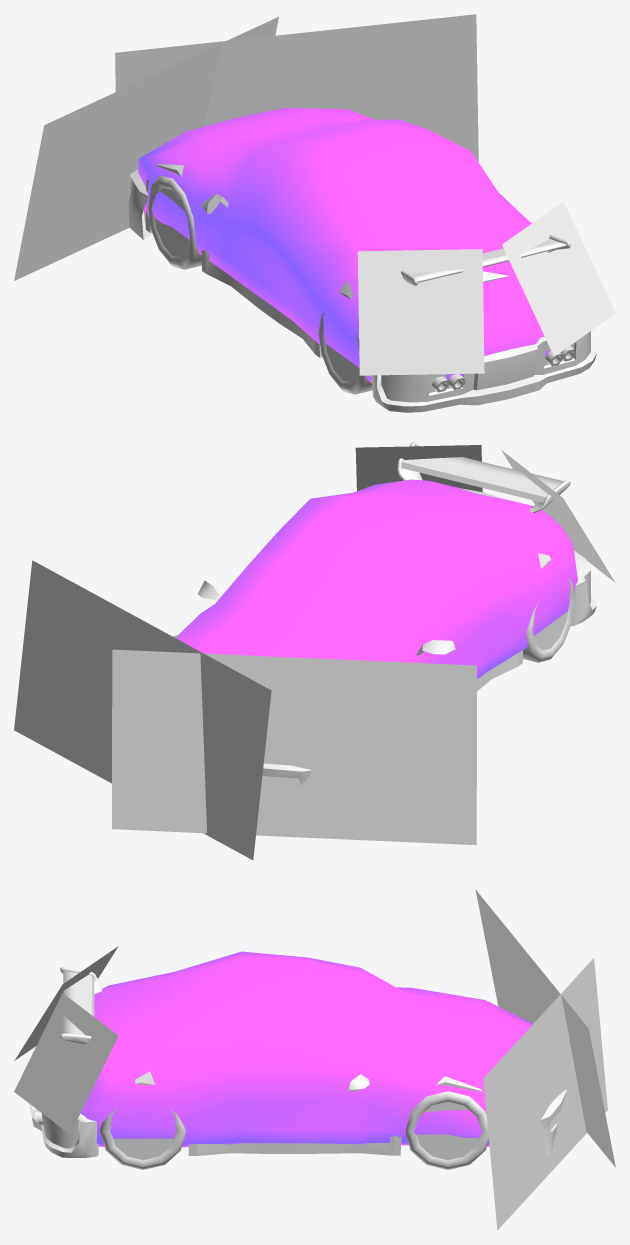
The model's file is Eclipse.fbx.
3 renders of one model, top to bottom at view 1: azimuth 30°, elevation 25°; view 2: azimuth 150°, elevation 25°; view 3: azimuth 270°, elevation 25°, orthographic. The views are drawn at different scales.
Parts seen in each view (by area): view 1: EclipseProxy, EclipseFrontLights, EclipseRearLights, EclipseRearBumper2, EclipseWheel_LF, Eclipse, EclipseWheel_LB, EclipseSpoiler1, EclipseFrontBumper2; view 2: EclipseFrontLights, EclipseProxy, EclipseRearLights, EclipseSpoiler1, EclipseWheel_LB, Eclipse, EclipseRearBumper2, EclipseFrontBumper2; view 3: EclipseProxy, EclipseFrontLights, EclipseRearLights, EclipseWheel_RF, Eclipse, EclipseWheel_RB, EclipseRearBumper2, EclipseSpoiler1, EclipseFrontBumper2.
Boxes of the visible parts, x1,y1,x2,y2 form: EclipseProxy: (138,108,551,383); EclipseFrontLights: (14,14,478,280); EclipseRearLights: (357,201,615,375); EclipseRearBumper2: (371,331,596,412); EclipseWheel_LF: (148,175,201,269); Eclipse: (145,164,509,357); EclipseWheel_LB: (318,312,372,394); EclipseSpoiler1: (401,234,570,285); EclipseFrontBumper2: (128,169,152,239); EclipseFrontLights: (14,560,476,860); EclipseProxy: (176,479,577,678); EclipseRearLights: (355,445,615,582); EclipseSpoiler1: (397,441,570,513); EclipseWheel_LB: (523,579,574,662); Eclipse: (173,488,551,690); EclipseRearBumper2: (571,550,596,626); EclipseFrontBumper2: (262,763,312,785); EclipseProxy: (80,951,532,1147); EclipseFrontLights: (475,890,615,1230); EclipseRearLights: (14,946,118,1134); EclipseWheel_RF: (405,1091,488,1169); Eclipse: (135,1071,482,1155); EclipseWheel_RB: (99,1108,185,1169); EclipseRearBumper2: (29,1104,98,1157); EclipseSpoiler1: (60,967,102,1044); EclipseFrontBumper2: (540,1089,566,1155).
Bounding box in the file's own units: 3.93 × 4.97 × 1.5.
